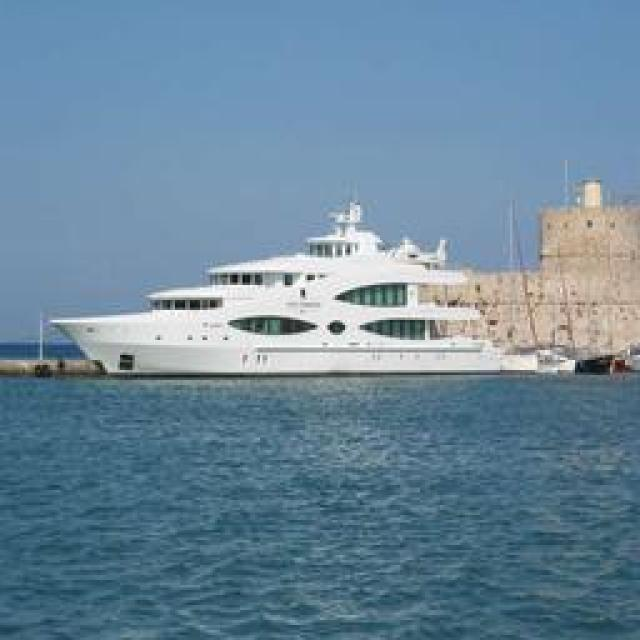CIV_Ship: (44, 182, 602, 386)
